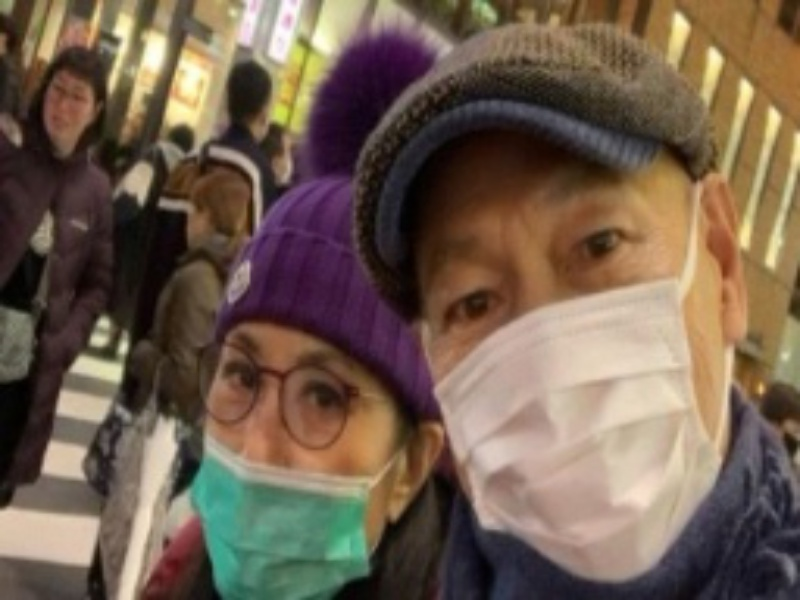ManaoArotava: (362, 85, 759, 594), (165, 222, 458, 600)
